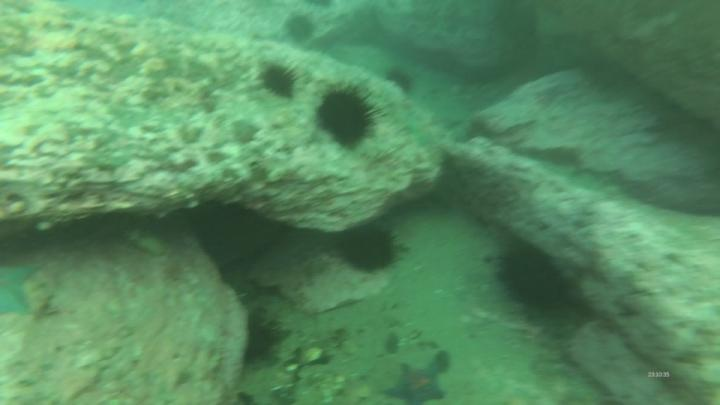echinus: (492, 239, 577, 320), (317, 82, 387, 155), (333, 220, 410, 279), (245, 311, 300, 371), (256, 57, 308, 101), (288, 12, 316, 45)
starfish: (389, 360, 449, 405), (1, 262, 43, 321)
